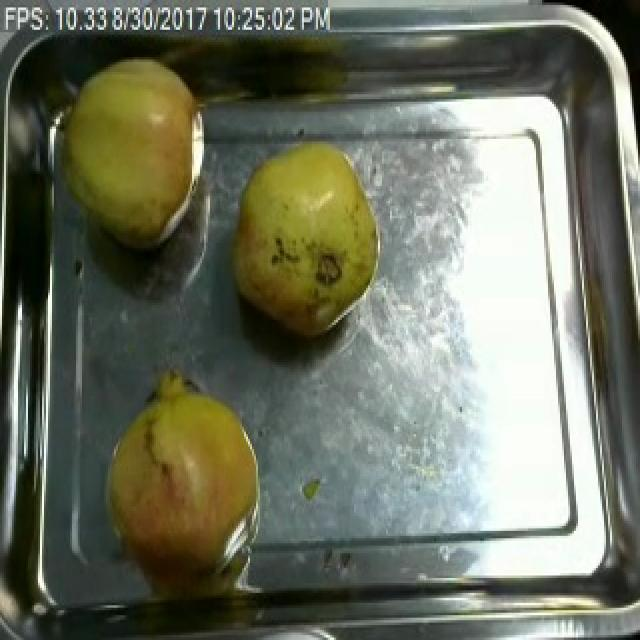fruit: (94, 362, 276, 613), (222, 124, 392, 347), (50, 50, 216, 258)
